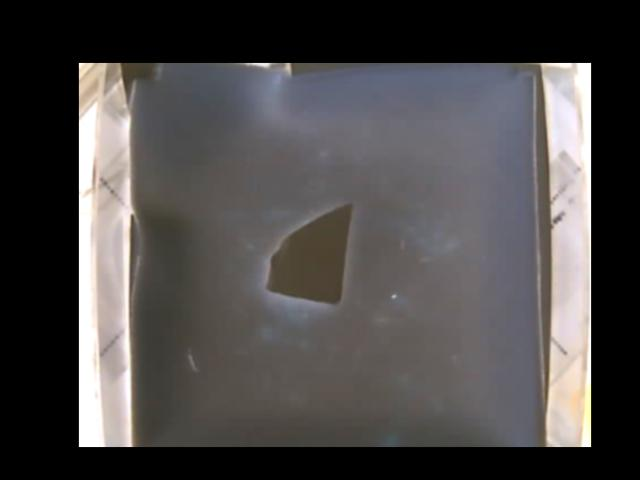China: (265, 202, 354, 305)
